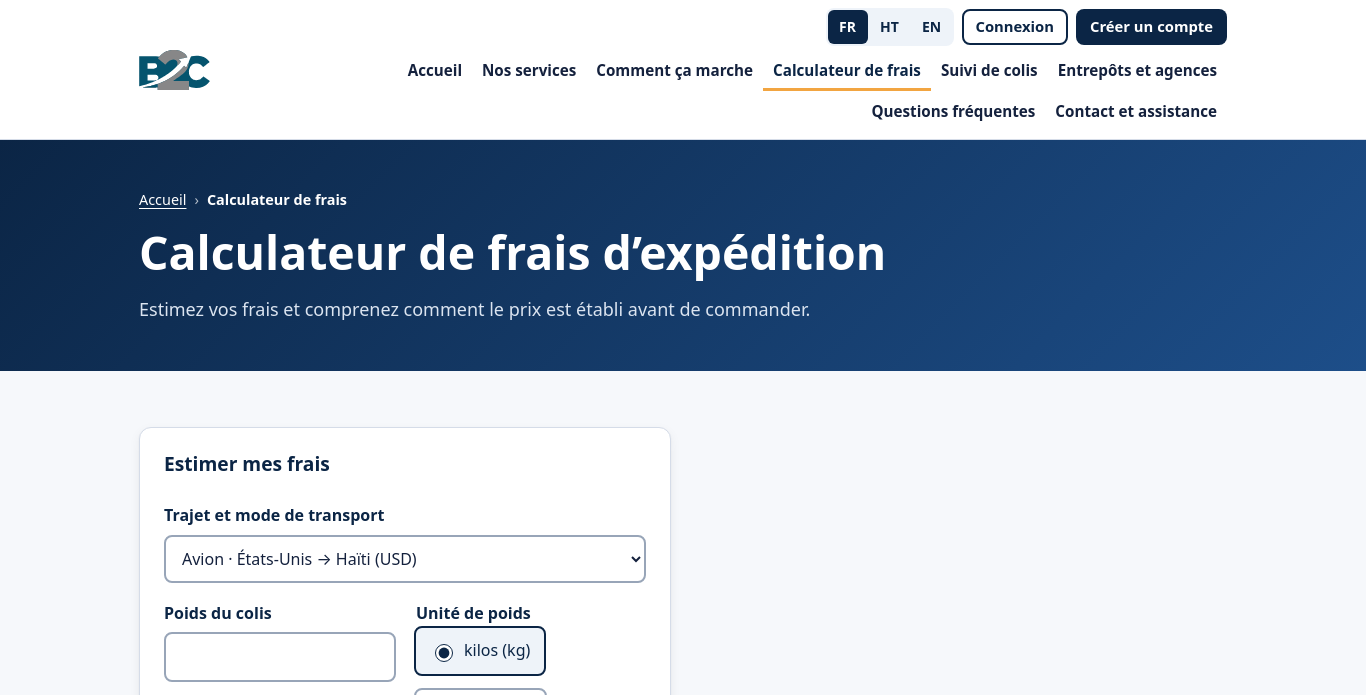
it: calculateur de frais › affiche le refus du serveur (aucun tarif) au lieu d’un prix
In the field labelled "Poids du colis": x=280, y=657 x1=164 y1=632 x2=396 y2=682, type "99"
(page scrolled)
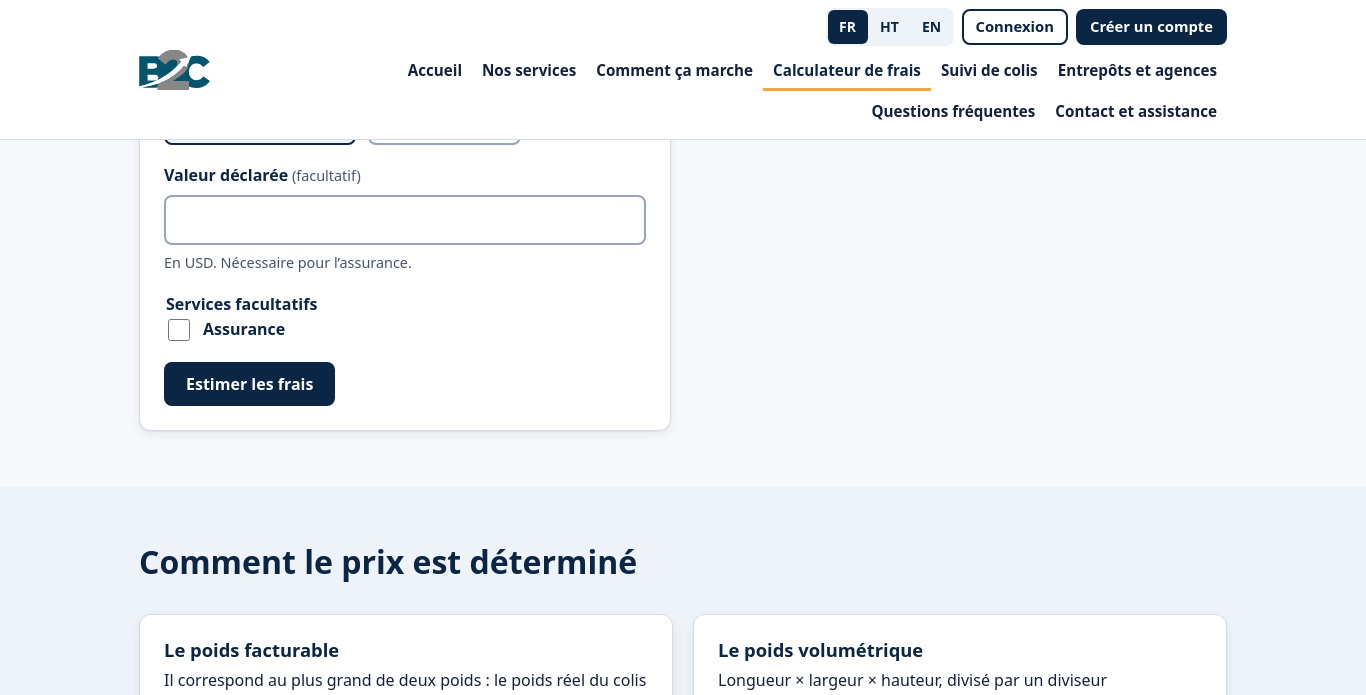
Click the button "Estimer les frais": x=250, y=384 x1=164 y1=362 x2=335 y2=406
(page scrolled)
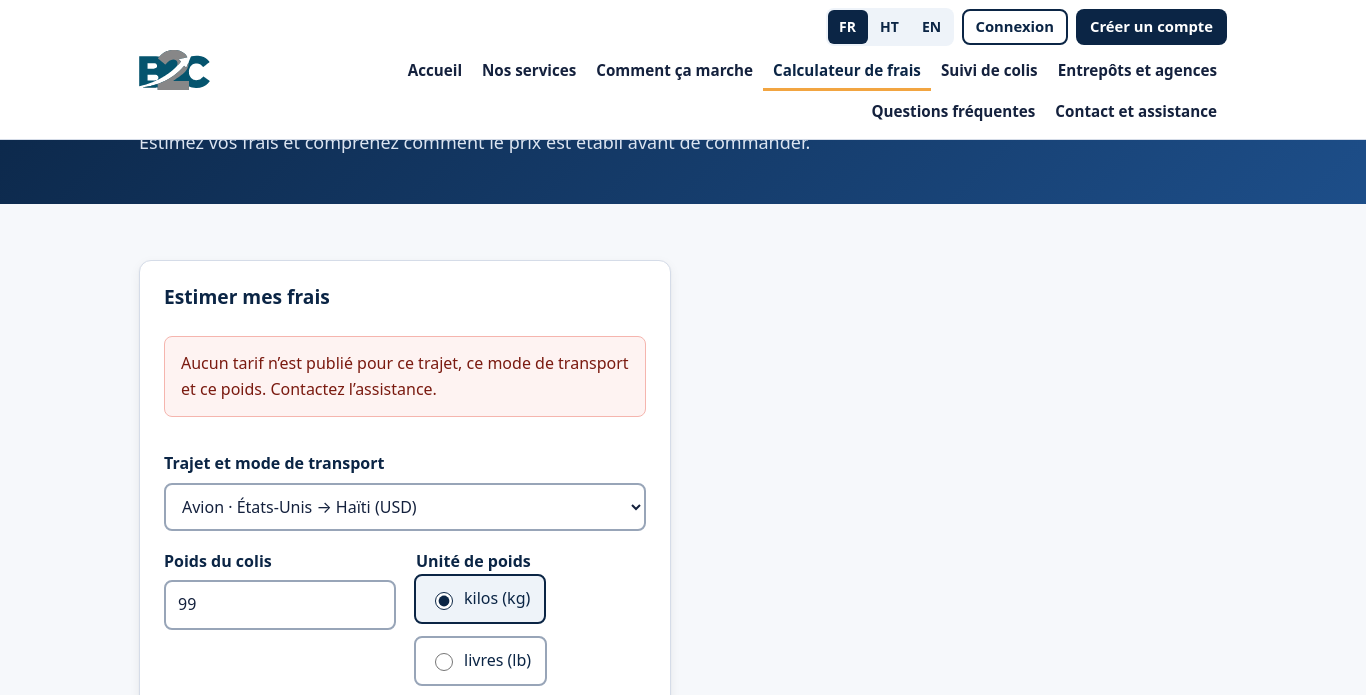
Expected: the message shows "Aucun tarif n’est publié pour ce trajet, ce mode de transport et ce poids. Contactez l’assistance.", x1=181 y1=352 x2=629 y2=400
